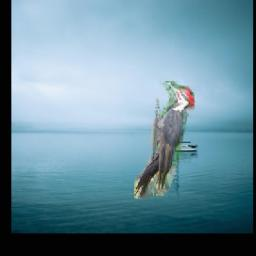Woodpecker: (134, 82, 195, 200)
